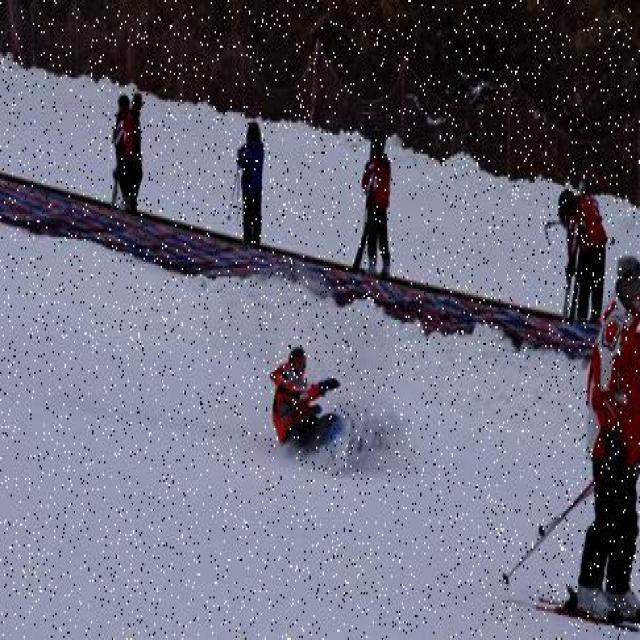fall: (268, 337, 377, 478)
